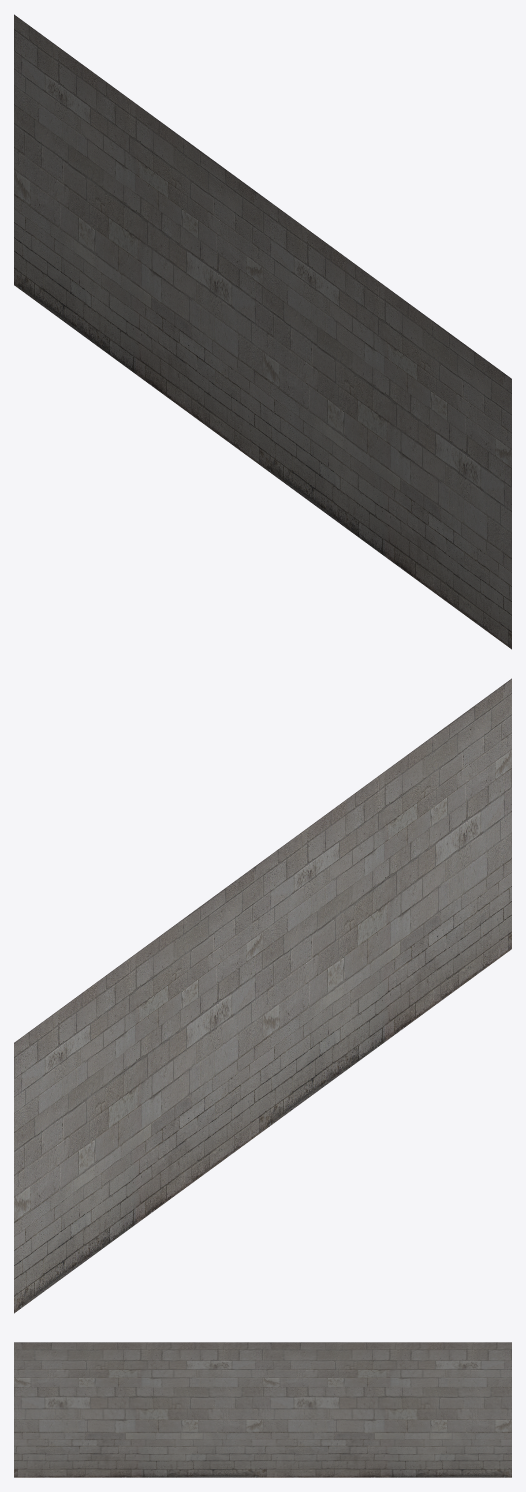
Rendered from Gradient_SideWall_6M.fbx.
The picture shows the model from 3 angles, top to bottom: view 1: azimuth 30°, elevation 25°; view 2: azimuth 150°, elevation 25°; view 3: azimuth 270°, elevation 25°; orthographic projection. The views are drawn at different scales.
Parts seen in each view (by area): view 1: Gradient_SideWall_6M; view 2: Gradient_SideWall_6M; view 3: Gradient_SideWall_6M.
Part boxes in pixels (x1,y1,x2,y2): Gradient_SideWall_6M: [14, 14, 511, 649]; Gradient_SideWall_6M: [14, 678, 511, 1313]; Gradient_SideWall_6M: [14, 1342, 511, 1477].
Bounding box in the file's own units: 9.77e-06 × 6 × 20.
